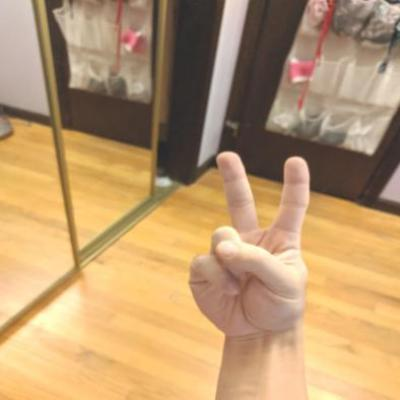hand: (184, 148, 314, 344)
